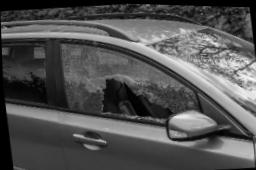Door: (60, 42, 170, 170)
